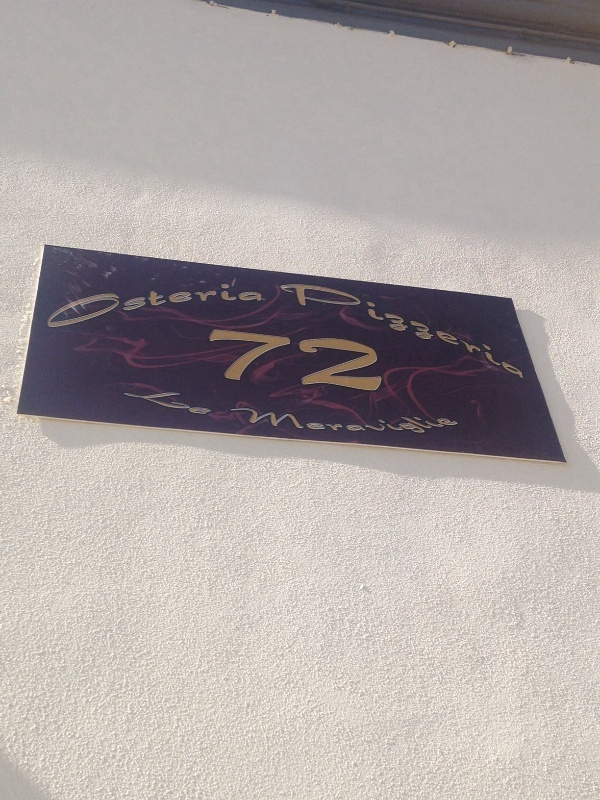text: (289, 272, 304, 382), (305, 272, 320, 382), (321, 272, 336, 382), (337, 272, 352, 382), (353, 272, 368, 382), (369, 272, 384, 382), (385, 272, 400, 382), (401, 272, 416, 382), (417, 272, 432, 382), (433, 272, 448, 382), (449, 272, 464, 382), (465, 272, 480, 382), (481, 272, 496, 382), (497, 272, 512, 382), (513, 272, 524, 382), (209, 323, 224, 398), (225, 323, 240, 398), (241, 323, 256, 398), (257, 323, 272, 398), (273, 323, 288, 398), (289, 323, 304, 398), (305, 323, 320, 398), (321, 323, 336, 398), (337, 323, 352, 398), (353, 323, 368, 398), (369, 323, 383, 398), (280, 272, 288, 382), (65, 280, 80, 332), (81, 280, 96, 332), (97, 280, 112, 332), (113, 280, 128, 332), (129, 280, 144, 332), (145, 280, 160, 332), (161, 280, 176, 332), (177, 280, 192, 332), (193, 280, 208, 332), (209, 280, 224, 332), (225, 280, 240, 332), (241, 280, 256, 332), (241, 404, 256, 446), (257, 404, 272, 446), (273, 404, 288, 446), (289, 404, 304, 446), (305, 404, 320, 446), (321, 404, 336, 446), (337, 404, 352, 446), (353, 404, 368, 446), (369, 404, 384, 446), (385, 404, 400, 446), (401, 404, 416, 446), (417, 404, 432, 446), (433, 404, 448, 446), (53, 280, 64, 332), (177, 389, 192, 423), (193, 389, 208, 423), (449, 404, 461, 446), (230, 404, 240, 446), (257, 280, 265, 332), (166, 389, 176, 423), (209, 389, 215, 423)
